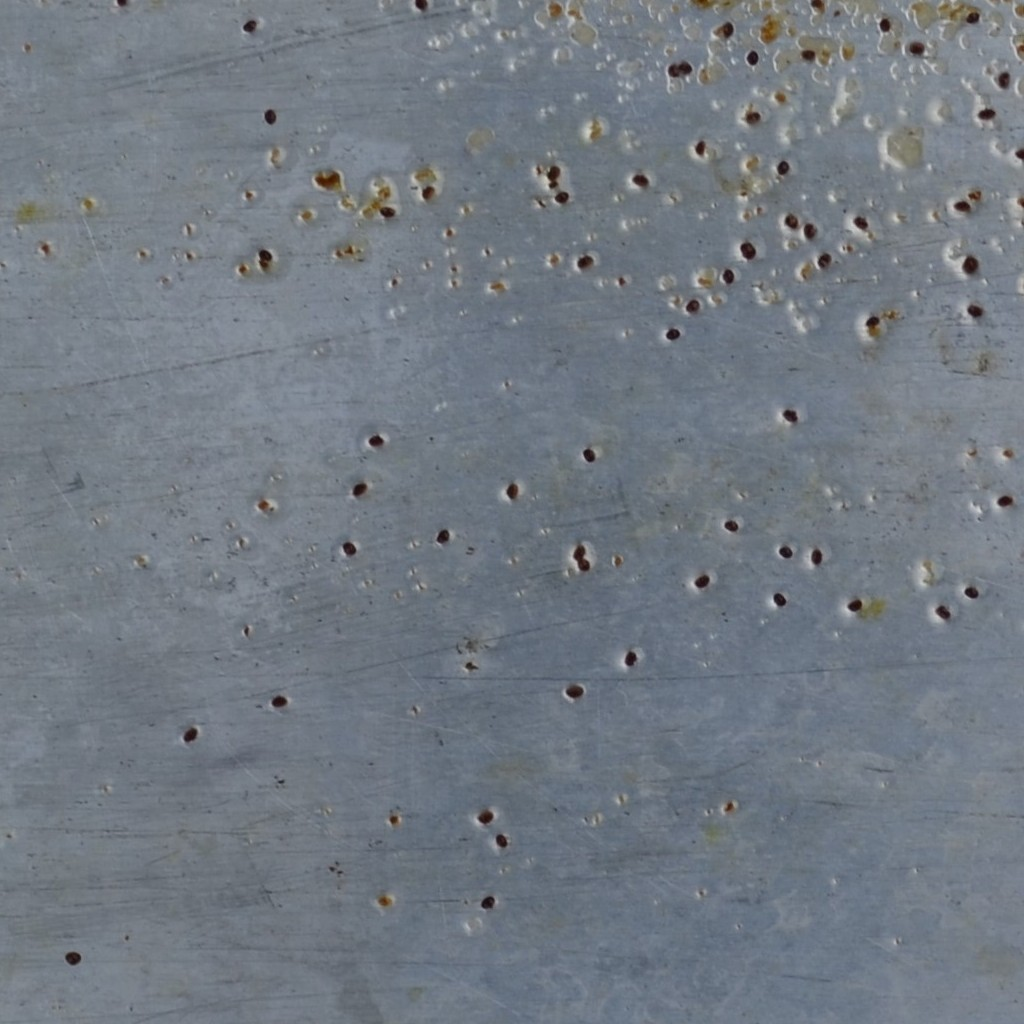varroa: (574, 248, 598, 274), (365, 424, 387, 450), (960, 253, 983, 277), (814, 247, 834, 273), (351, 476, 370, 501), (478, 890, 497, 915), (622, 643, 638, 672), (270, 689, 291, 711), (738, 239, 758, 262), (691, 570, 710, 594), (581, 441, 597, 469), (630, 168, 650, 190), (474, 806, 495, 826), (994, 490, 1014, 511), (676, 57, 695, 79), (562, 682, 585, 700), (340, 538, 357, 562), (934, 600, 953, 621), (263, 104, 279, 128), (63, 946, 82, 966), (180, 724, 198, 745), (852, 213, 870, 234), (241, 14, 258, 36), (546, 160, 563, 182), (256, 244, 276, 262), (771, 587, 789, 607), (503, 479, 520, 500), (493, 829, 510, 850), (802, 219, 819, 240), (723, 516, 740, 537), (977, 105, 999, 121), (996, 69, 1011, 92), (571, 542, 590, 560), (907, 38, 925, 57), (846, 594, 863, 614), (745, 47, 760, 69), (693, 136, 706, 161), (863, 310, 881, 328), (965, 302, 985, 318), (780, 407, 800, 423), (952, 199, 973, 214), (722, 19, 736, 41), (810, 545, 824, 567), (962, 583, 980, 600), (379, 202, 397, 219), (745, 106, 761, 125), (666, 60, 681, 80), (783, 212, 798, 232), (774, 544, 794, 559), (722, 264, 735, 287), (553, 189, 571, 205), (435, 526, 451, 544), (775, 158, 791, 176), (665, 325, 681, 342), (685, 298, 700, 316), (966, 9, 981, 25), (801, 47, 817, 61), (574, 560, 593, 571), (412, 0, 429, 12), (1013, 144, 1023, 164), (877, 16, 892, 29)
